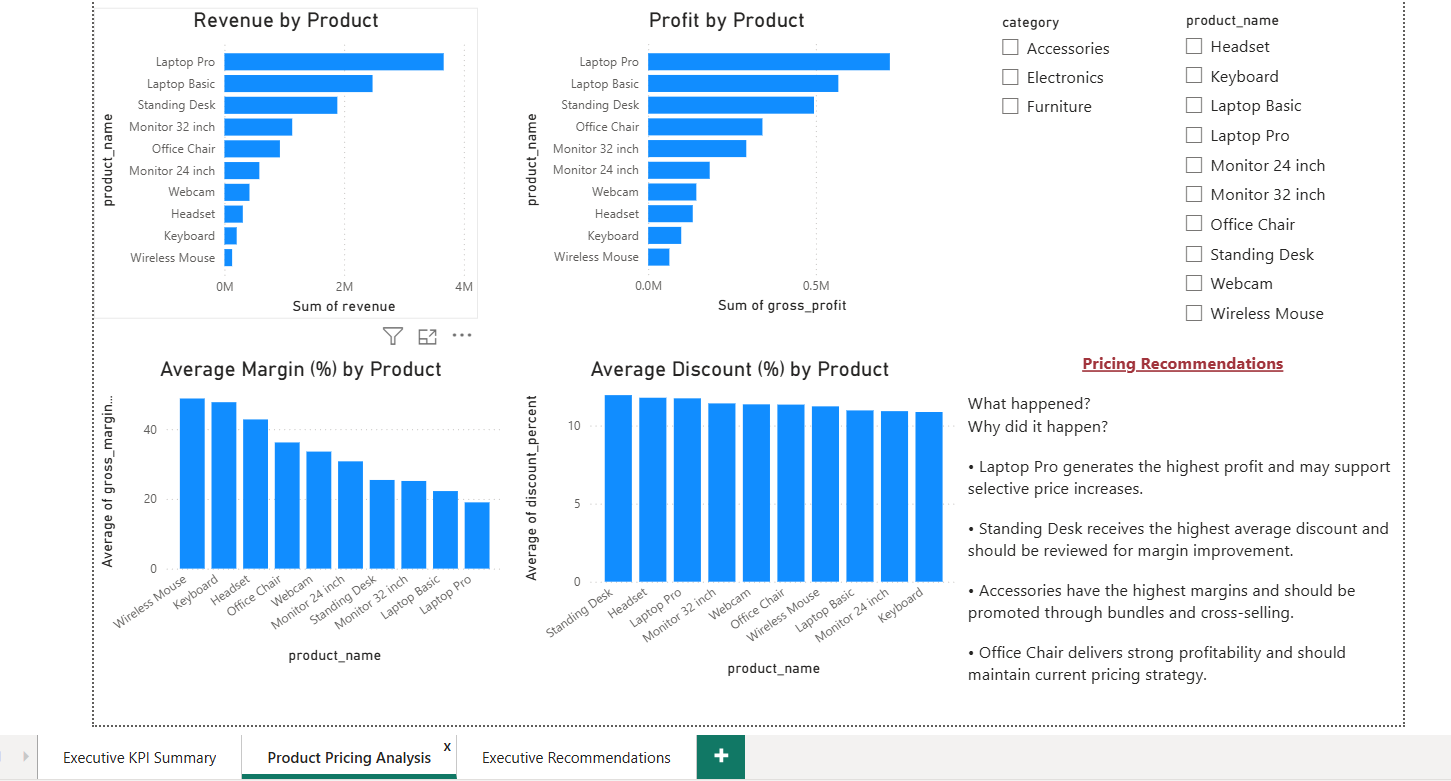

What the dashboard file says about the page in this screenshot:
{"tool":"powerbi","page":{"name":"Product Pricing Analysis","canvas":[1280,720],"ordinal":1},"visuals":[{"type":"clusteredBarChart","title":"Revenue by Product","fields":{"Category":["public sales_pricing.product_name"],"Y":["Sum(public sales_pricing.revenue)"]},"box":[0,17.8,376,304.6],"z":0},{"type":"clusteredBarChart","title":"Profit by Product","fields":{"Category":["public sales_pricing.product_name"],"Y":["Sum(public sales_pricing.gross_profit)"]},"box":[414.9,18.5,409.2,304.1],"z":1000},{"type":"columnChart","title":"Average Discount (%) by Product","fields":{"Category":["public sales_pricing.product_name"],"Y":["Avg(public sales_pricing.discount_percent)"]},"box":[414.9,359.5,434.8,318.3],"z":2000},{"type":"columnChart","title":"Average Margin (%) by Product","fields":{"Category":["public sales_pricing.product_name"],"Y":["Avg(public sales_pricing.gross_margin_percent)"]},"box":[0,359.5,405,305.5],"z":3000},{"type":"slicer","fields":{"Values":["public sales_pricing.product_name"]},"box":[1055.8,17.1,190.4,342.5],"z":4000},{"type":"slicer","fields":{"Values":["public sales_pricing.category"]},"box":[875.3,18.5,160.6,133.6],"z":5000},{"type":"textbox","box":[849.7,349.6,430.6,370.9],"z":6000}]}

Visuals, with their boxes on the page's 1280x720 design canvas (x1, y1, x2, y2). These are canvas units, not pixel positions in the 1451x781 screenshot, which may show the page scaled, cropped or inside an application window:
"Revenue by Product" clusteredBarChart: bbox=[0, 18, 376, 322]
"Profit by Product" clusteredBarChart: bbox=[415, 18, 824, 323]
"Average Discount (%) by Product" columnChart: bbox=[415, 360, 850, 678]
"Average Margin (%) by Product" columnChart: bbox=[0, 360, 405, 665]
slicer - public sales_pricing.product_name: bbox=[1056, 17, 1246, 360]
slicer - public sales_pricing.category: bbox=[875, 18, 1036, 152]
textbox: bbox=[850, 350, 1280, 720]
